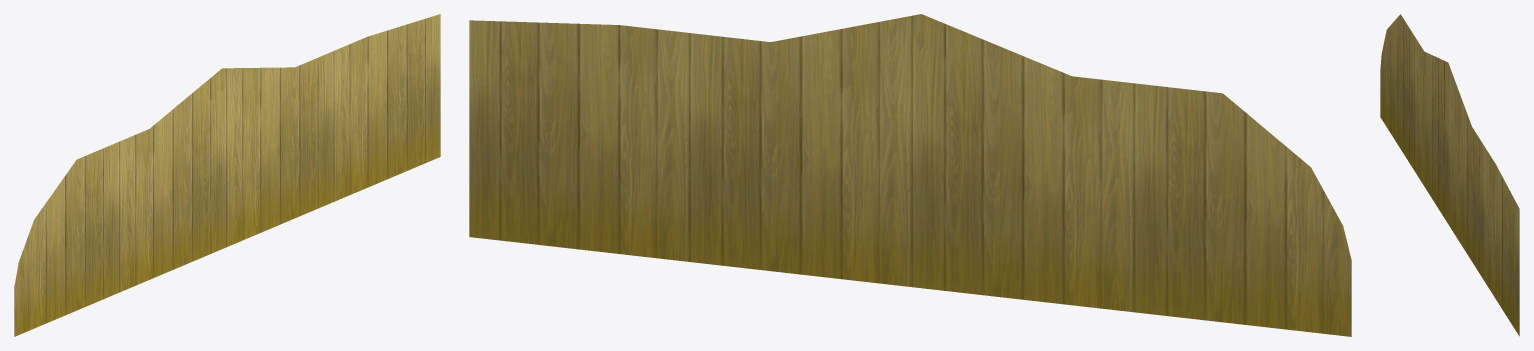
The model's file is HTOWN01_BAGROW1FRONT.fbx.
3 renders of one model, left to right at view 1: azimuth 30°, elevation 25°; view 2: azimuth 150°, elevation 25°; view 3: azimuth 270°, elevation 25°, orthographic. The views are drawn at different scales.
Parts seen in each view (by area): view 1: HTOWN01_BAGROW1FRONT; view 2: HTOWN01_BAGROW1FRONT; view 3: HTOWN01_BAGROW1FRONT.
Boxes of the visible parts, left/top/right/bottom form: HTOWN01_BAGROW1FRONT: left=14, top=14, right=440, bottom=336; HTOWN01_BAGROW1FRONT: left=469, top=14, right=1351, bottom=336; HTOWN01_BAGROW1FRONT: left=1380, top=14, right=1519, bottom=336.
Bounding box in the file's own units: 88038 × 30190 × 23590.
1 material, 1 textured.
